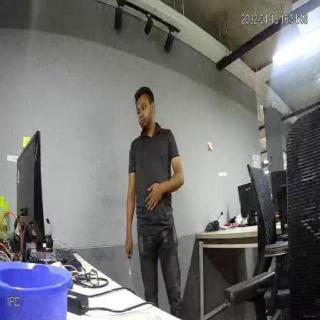knife: (124, 253, 136, 281)
